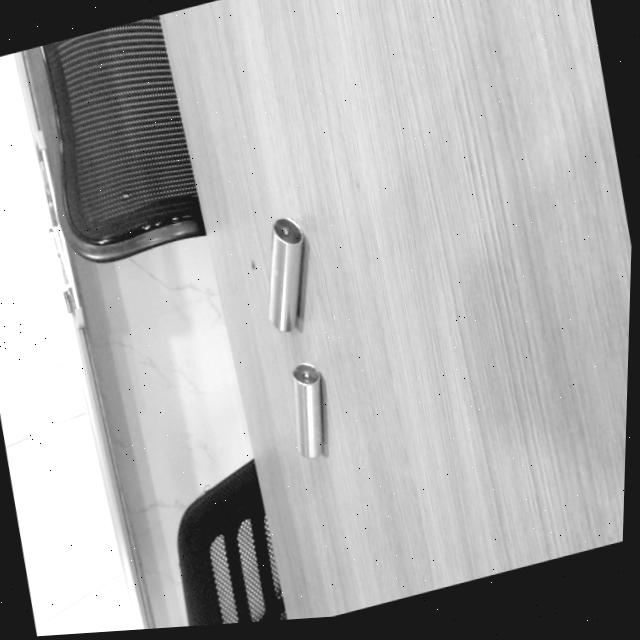Co_Lon: (265, 217, 306, 332)
Co_Nho: (292, 362, 324, 457)
